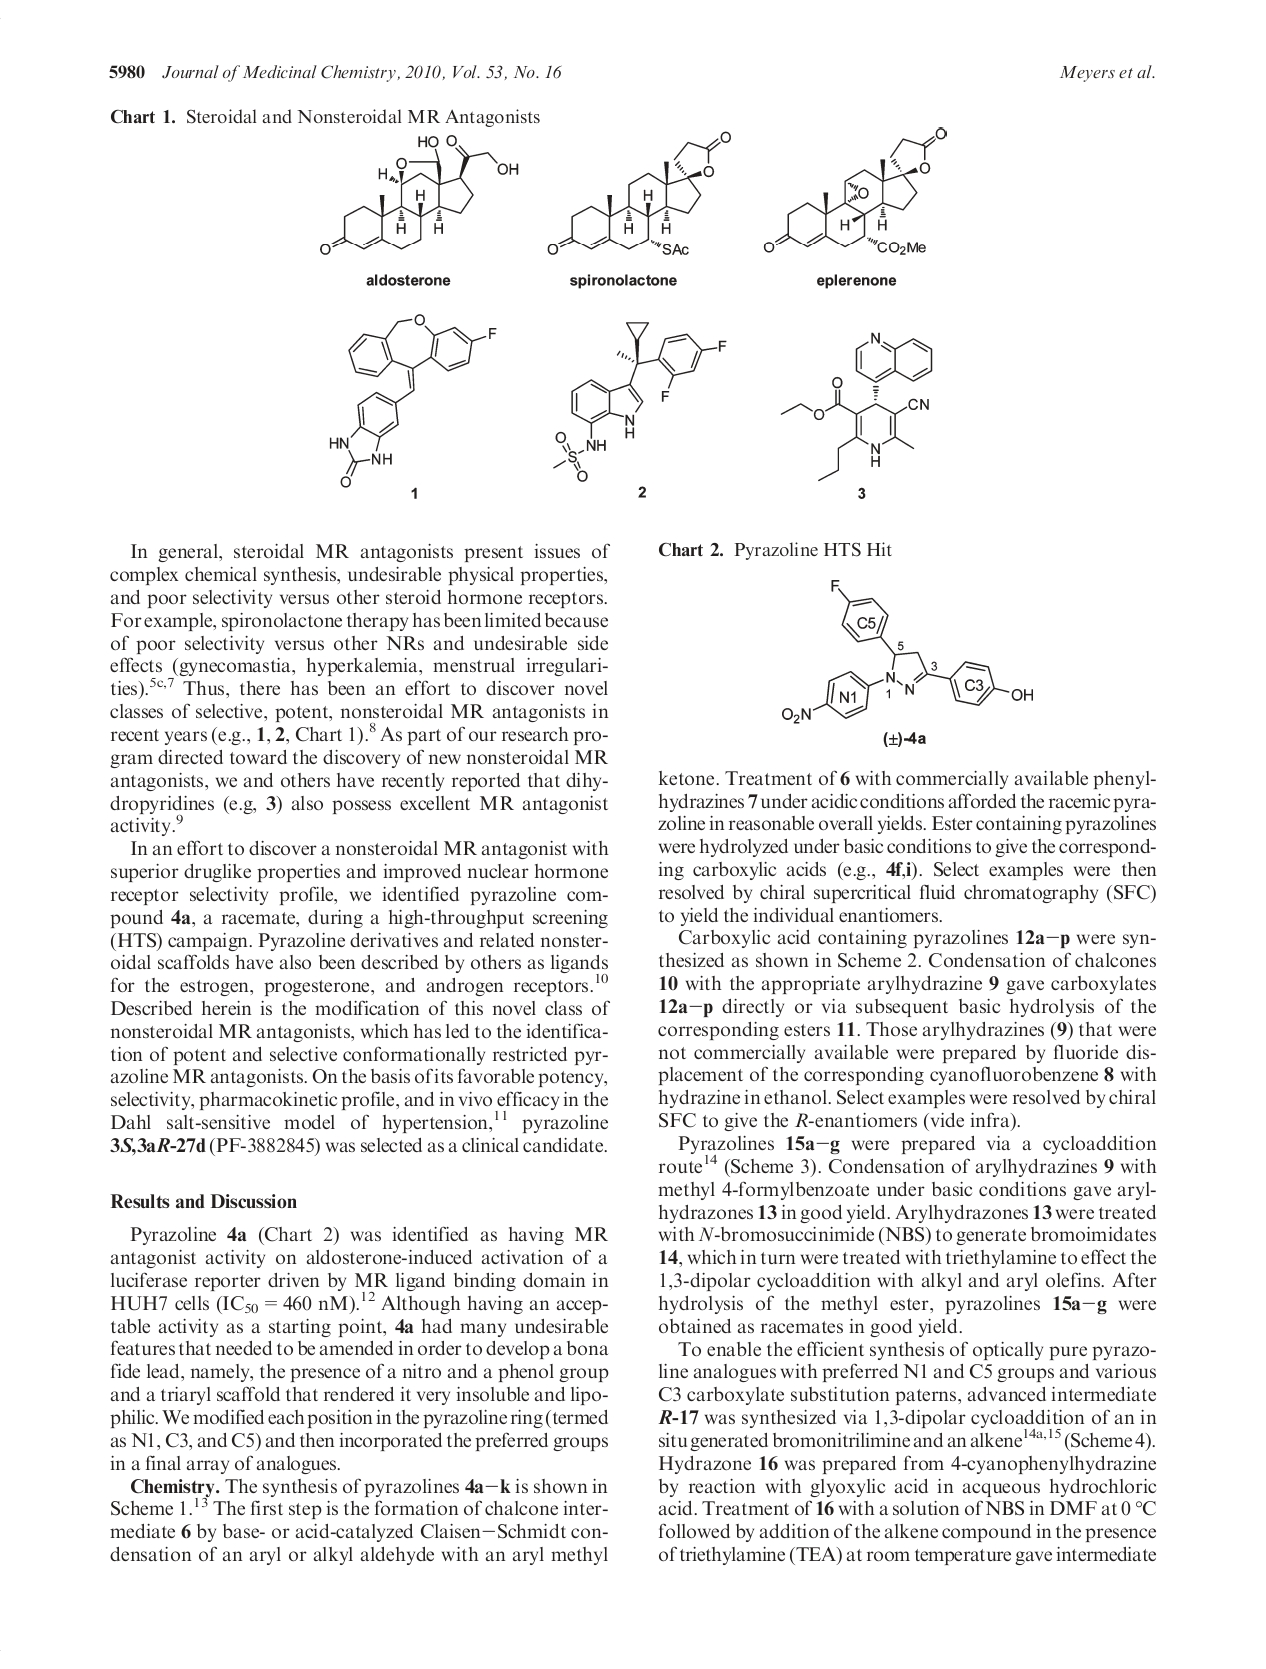exist_molecular: (777, 577, 1036, 726), (328, 313, 500, 489), (552, 319, 729, 484), (761, 121, 949, 254), (318, 132, 519, 257), (547, 126, 734, 259), (779, 331, 935, 484)
